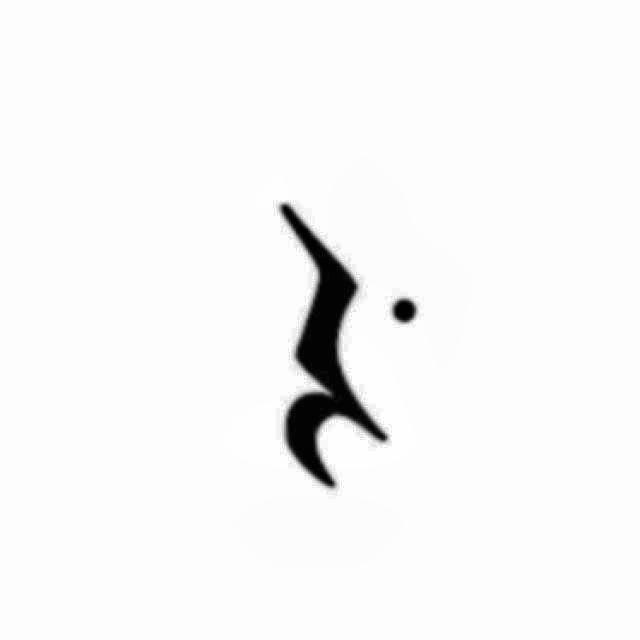Quarter-rest: (247, 186, 443, 494)
